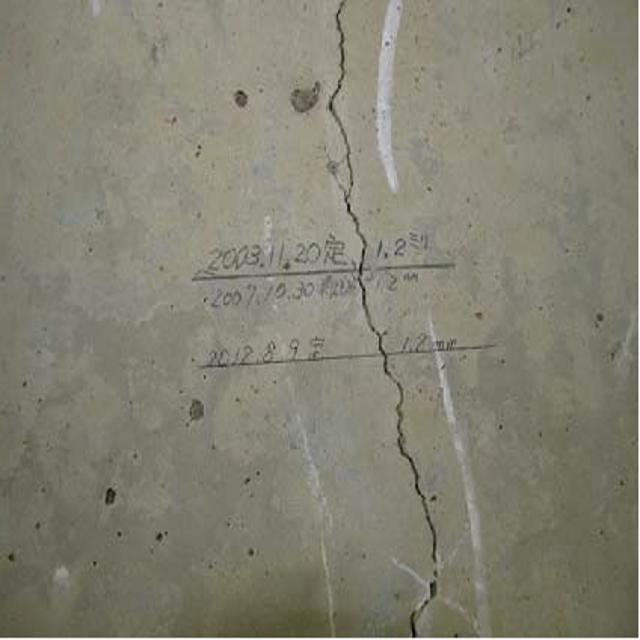crack: (307, 3, 440, 638)
